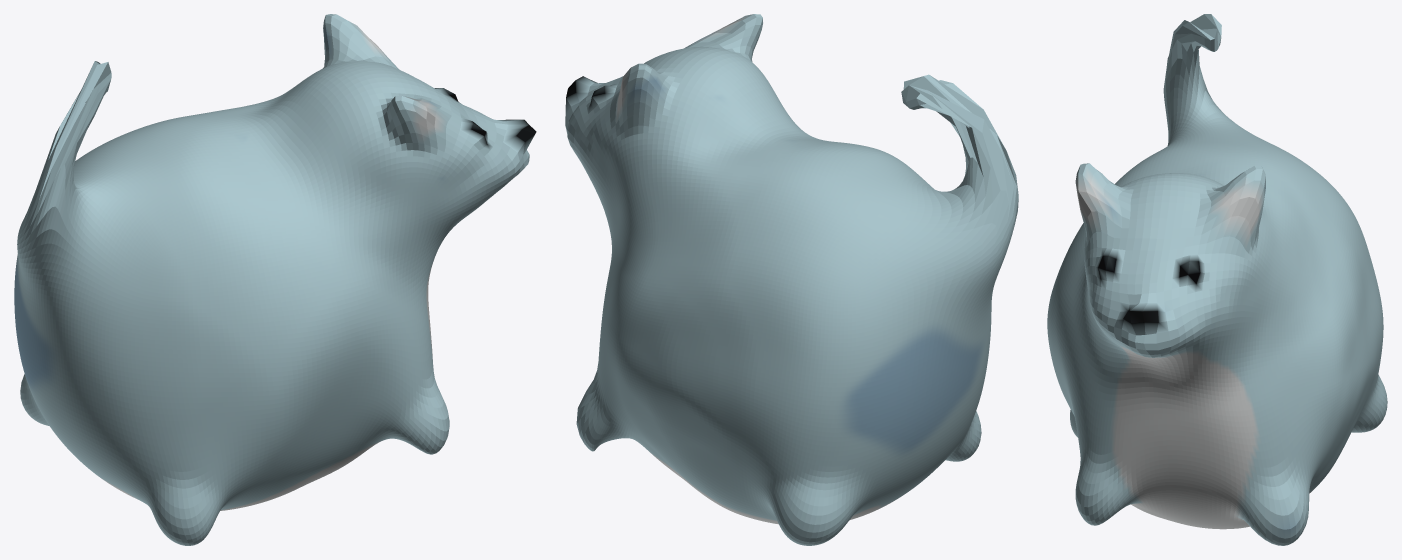
Rendered from BubbleDog.fbx.
3 views of the same model, side by side, from view 1: azimuth 30°, elevation 25°; view 2: azimuth 150°, elevation 25°; view 3: azimuth 270°, elevation 25° (orthographic). The views are drawn at different scales.
Parts seen in each view (by area): view 1: Quad Sphere; view 2: Quad Sphere; view 3: Quad Sphere.
Part boxes in pixels (left/top/right/bottom): Quad Sphere: left=14, top=14, right=536, bottom=545; Quad Sphere: left=565, top=14, right=1018, bottom=545; Quad Sphere: left=1047, top=14, right=1387, bottom=545.
Size of the model in its own units: 334 by 312 by 221.
